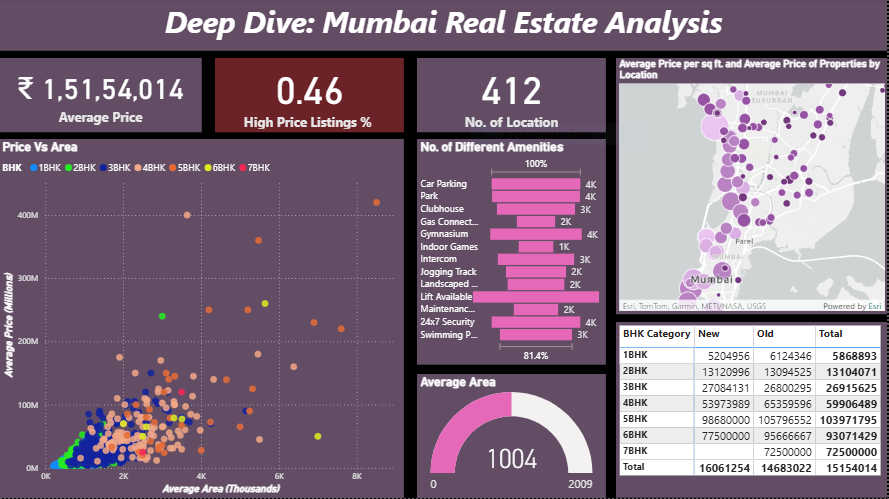

Layout of this report page (visuals, bound fields, positions):
{"tool":"powerbi","page":{"name":"Page 2","canvas":[1280,720],"ordinal":1},"visuals":[{"type":"textbox","box":[0,0,1280.2,76.3],"z":0},{"type":"esriVisual","title":"Average Price per sq ft. and Average Price of Properties by Location","fields":{"Location":["Mumbai1.Location"],"Color":["Avg(Mumbai1.Price)"],"Size":["Avg(Mumbai1.Price per sq ft.)"]},"box":[888.5,86.4,391.7,368.6],"z":1000},{"type":"scatterChart","title":"Price Vs Area","fields":{"Category":["Mumbai1.Area"],"Y":["Avg(Mumbai1.Price)"],"X":["Avg(Mumbai1.Area)"],"Series":["Mumbai1.BHK Category"]},"box":[0,203,583.2,517],"z":2000},{"type":"pivotTable","fields":{"Rows":["Mumbai1.BHK Category"],"Columns":["Mumbai1.Is_New"],"Values":["Avg(Mumbai1.Price)"]},"box":[888.5,466.6,391.7,253.4],"z":3000},{"type":"gauge","title":"Average Area","fields":{"Y":["Avg(Mumbai1.Area)"]},"box":[601.9,541.4,272.2,178.6],"z":4000},{"type":"funnel","title":"No. of Different Amenities","fields":{"Y":["Sum(Mumbai1.Car Parking)","Sum(Mumbai1.Children's Play Area)","Sum(Mumbai1.Clubhouse)","Sum(Mumbai1.Gas Connection)","Sum(Mumbai1.Gymnasium)","Sum(Mumbai1.Indoor Games)","Sum(Mumbai1.Intercom)","Sum(Mumbai1.Jogging Track)","Sum(Mumbai1.Landscaped Gardens)","Sum(Mumbai1.Lift Available)","Sum(Mumbai1.Maintenance Staff)","Sum(Mumbai1.24x7 Security)"]},"box":[601.9,203,272.2,325.4],"z":5000},{"type":"card","fields":{"Values":["Avg(Mumbai1.Price)"]},"box":[0,86.4,292.3,106.6],"z":6000},{"type":"card","fields":{"Values":["Mumbai1.High Price %"]},"box":[311,86.4,272.2,106.6],"z":7000},{"type":"card","fields":{"Values":["Count(Mumbai1.Location)"]},"box":[601.9,86.4,272.2,106.6],"z":8000}]}

Visuals, with their boxes in screenshot pixels (x1, y1, x2, y2), scaled from the page's 1280x720 canvas onto the 889x499 screenshot:
textbox: [x1=0, y1=0, x2=888, y2=53]
"Average Price per sq ft. and Average Price of Properties by Location" esriVisual: [x1=617, y1=60, x2=888, y2=315]
"Price Vs Area" scatterChart: [x1=0, y1=141, x2=405, y2=498]
pivotTable - Mumbai1.BHK Category x Mumbai1.Is_New: [x1=617, y1=323, x2=888, y2=498]
"Average Area" gauge: [x1=418, y1=375, x2=607, y2=498]
"No. of Different Amenities" funnel: [x1=418, y1=141, x2=607, y2=366]
card - Avg(Mumbai1.Price): [x1=0, y1=60, x2=203, y2=134]
card - Mumbai1.High Price %: [x1=216, y1=60, x2=405, y2=134]
card - Count(Mumbai1.Location): [x1=418, y1=60, x2=607, y2=134]
